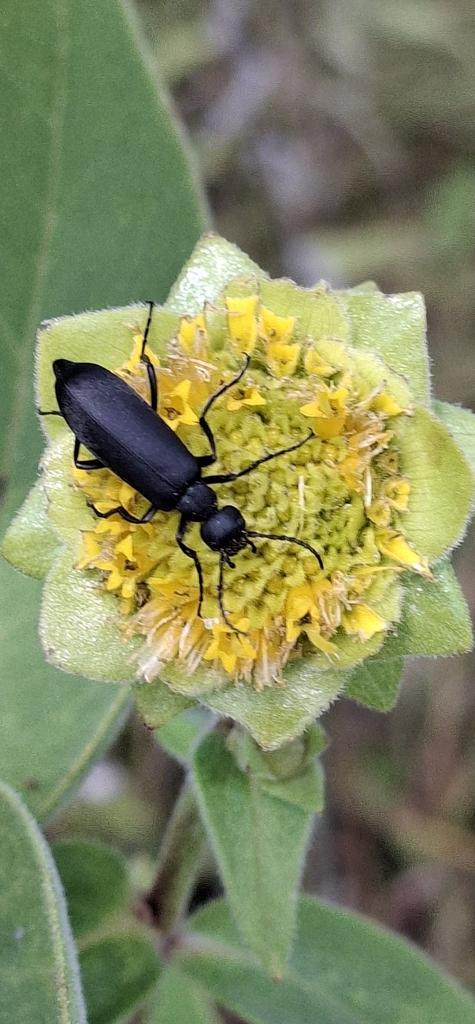blister_beetle: (0, 261, 388, 683)
